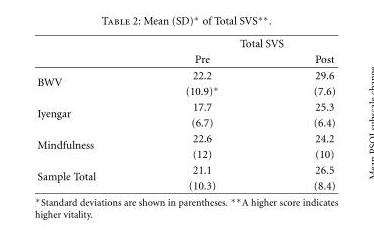table: (36, 37, 334, 191)
table column: (139, 37, 265, 191), (36, 37, 139, 191), (265, 37, 334, 191)
table column header: (36, 37, 334, 67)
table row: (36, 51, 334, 67), (36, 82, 334, 98), (36, 98, 334, 114), (36, 114, 334, 130), (36, 145, 334, 161), (36, 161, 334, 177), (36, 67, 334, 82), (36, 130, 334, 145), (36, 37, 334, 51), (36, 177, 334, 191)
table spanning cell: (36, 98, 139, 130), (36, 67, 139, 98), (36, 130, 139, 161), (36, 161, 139, 191), (139, 37, 334, 51)
